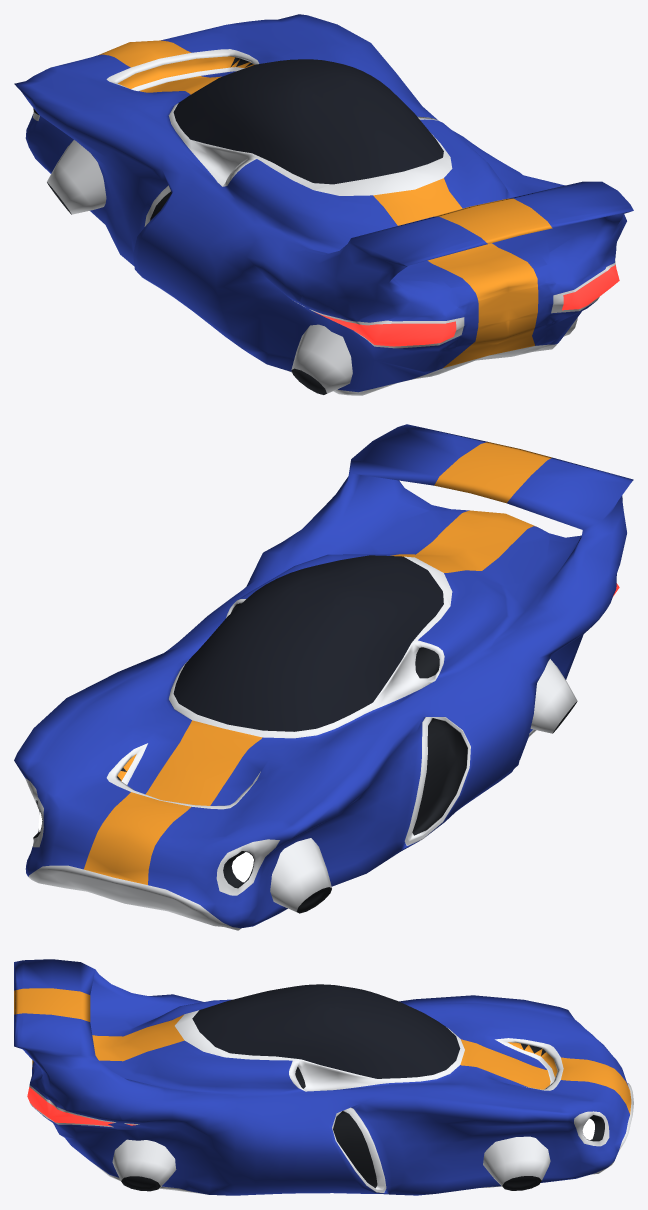
The model's file is r3-coilover.glb.
The picture shows the model from 3 angles, top to bottom: view 1: azimuth 30°, elevation 25°; view 2: azimuth 150°, elevation 25°; view 3: azimuth 270°, elevation 25°; orthographic projection. The views are drawn at different scales.
Visible parts, largest first — view 1: Body.001, Canopy, Sockets; view 2: Body.001, Canopy, Sockets; view 3: Body.001, Canopy, Sockets.
Boxes of the visible parts, box(x1,y1,x2,y2) form: Body.001: box(14, 14, 633, 395); Canopy: box(173, 59, 443, 184); Sockets: box(47, 140, 577, 394); Body.001: box(14, 424, 633, 930); Canopy: box(173, 555, 443, 731); Sockets: box(270, 659, 577, 913); Body.001: box(14, 959, 633, 1195); Canopy: box(192, 984, 460, 1078); Sockets: box(112, 1136, 550, 1191).
Size of the model in its own units: 1.89 by 1.13 by 4.01.
